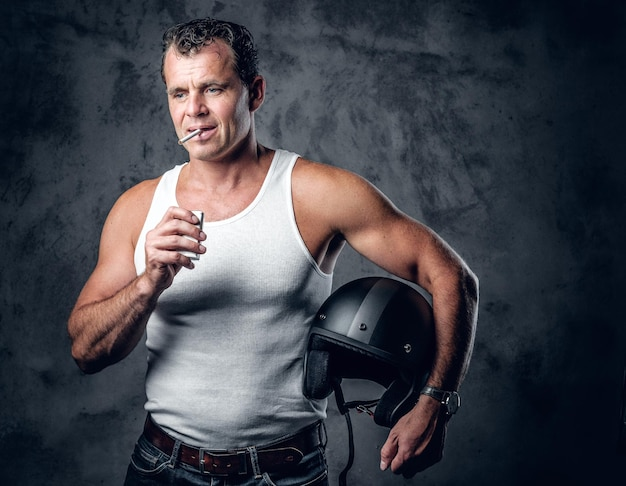cigarette: (175, 126, 203, 145)
